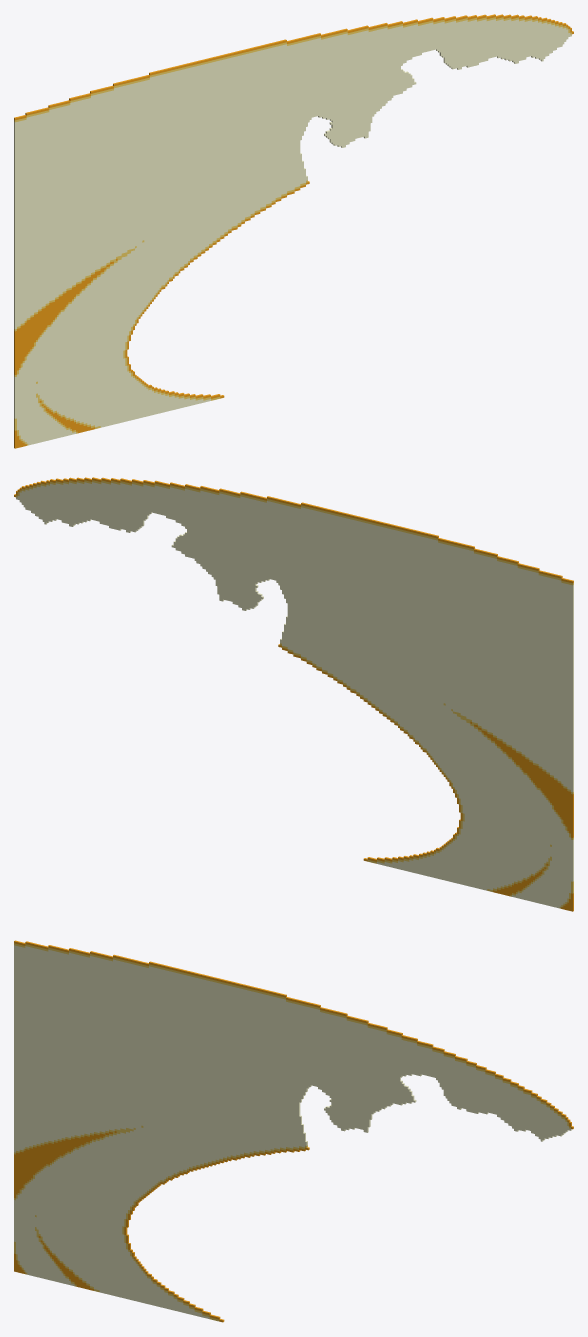
File: Fight_032_2_04_fx.obj
3 renders of one model, top to bottom at view 1: azimuth 30°, elevation 25°; view 2: azimuth 150°, elevation 25°; view 3: azimuth 330°, elevation 25°, orthographic.
Size of the model in its own units: 29.4 by 17.2 by 0.1.
Materials: 1 (1 with a texture image).
